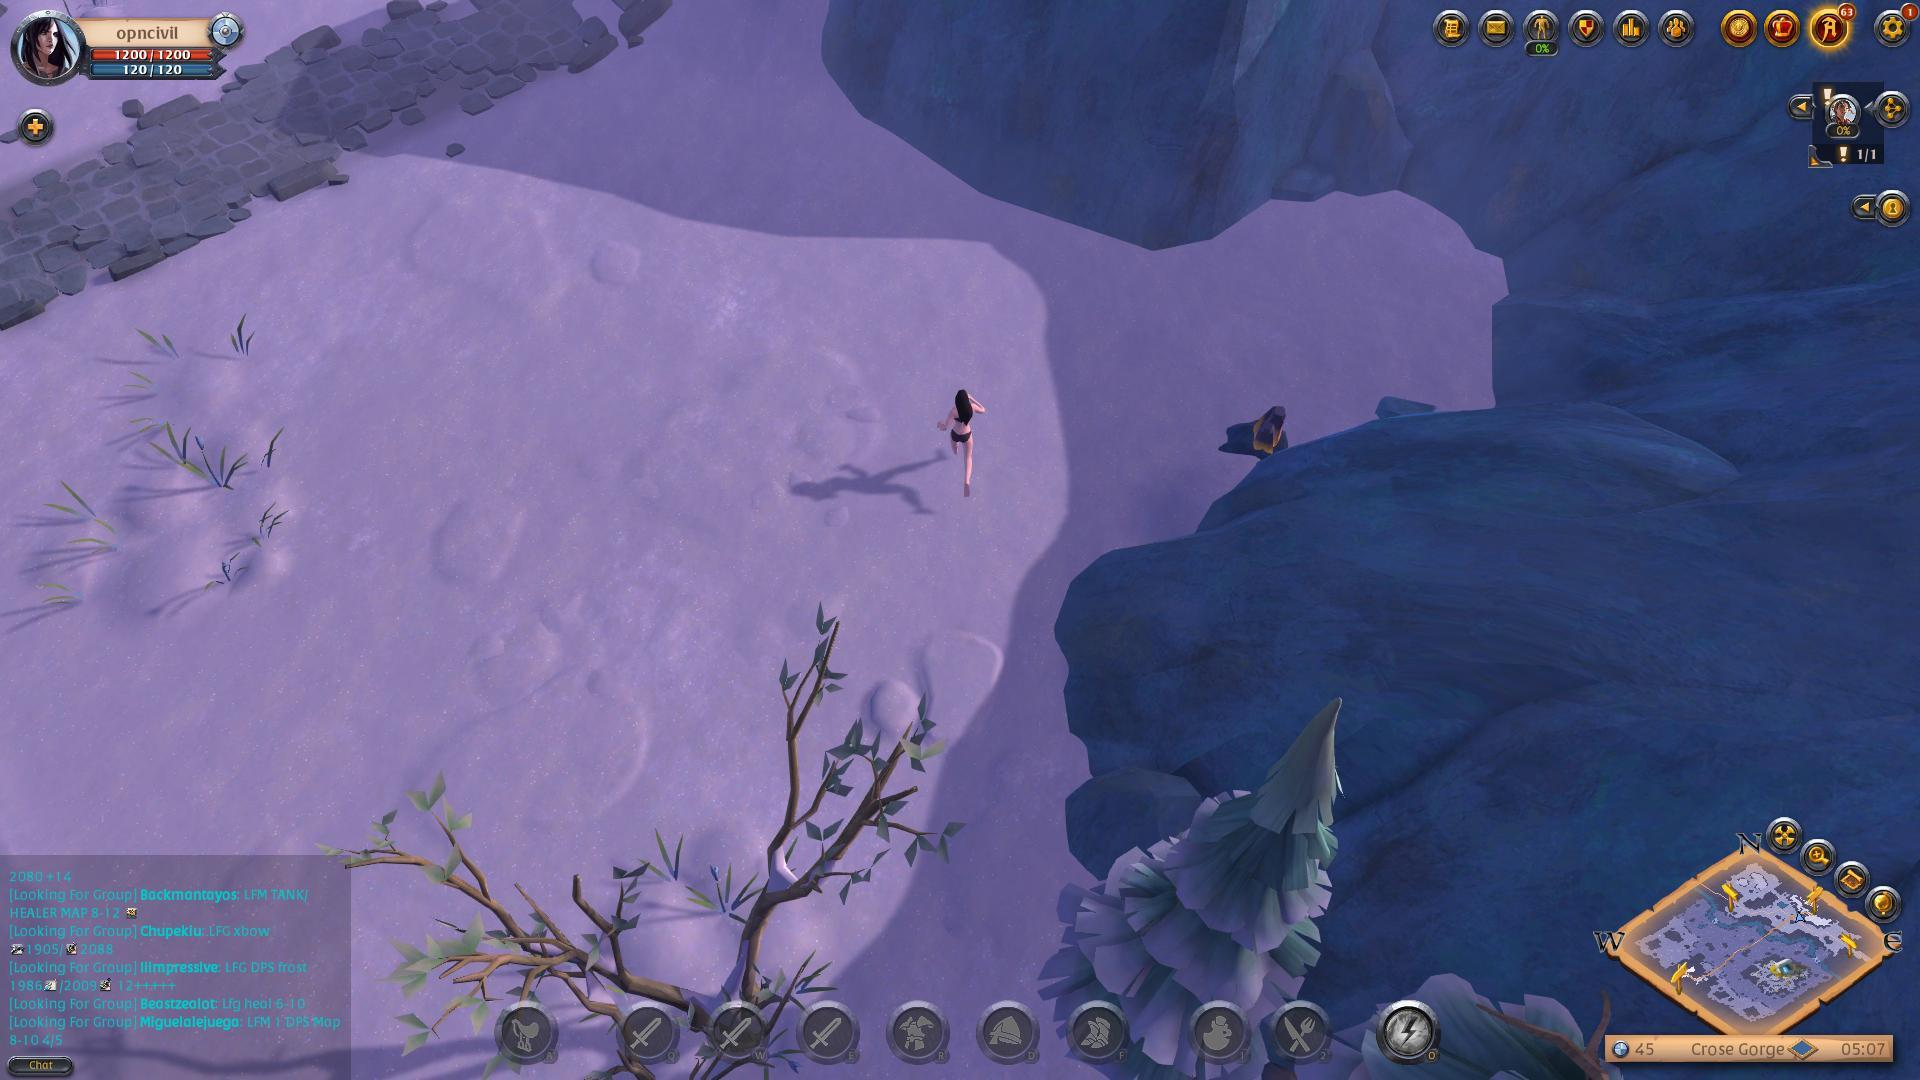copper_ore: (1218, 389, 1304, 483)
